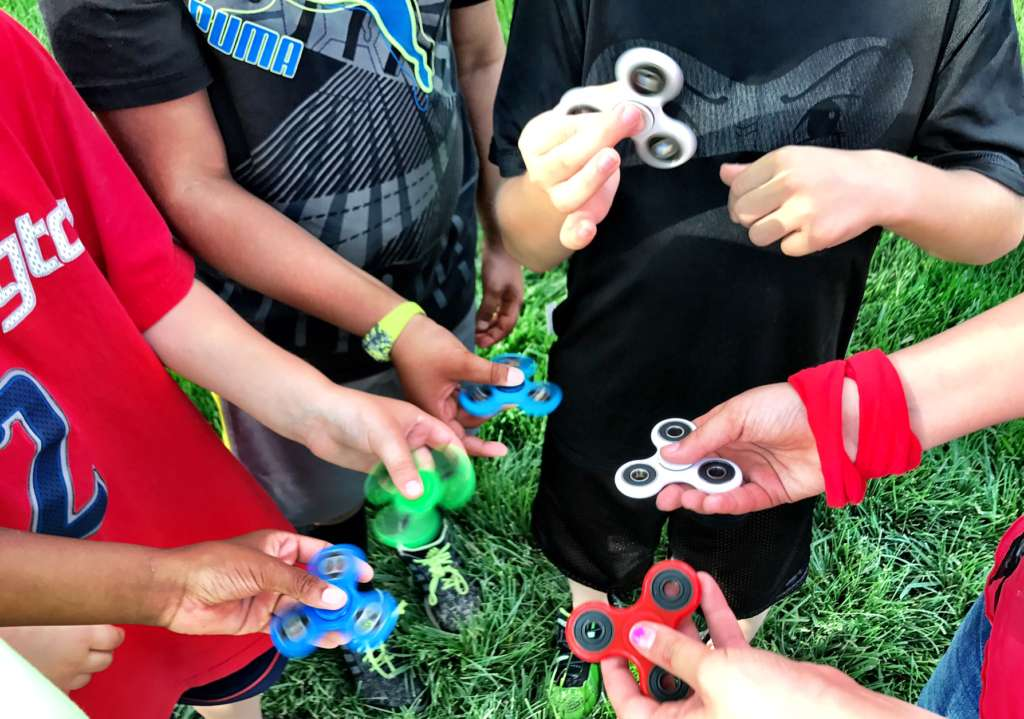fidget kid spinner toys: (530, 546, 713, 707), (555, 40, 707, 173), (263, 527, 395, 657), (351, 434, 484, 554), (604, 403, 742, 498), (447, 318, 563, 422)
